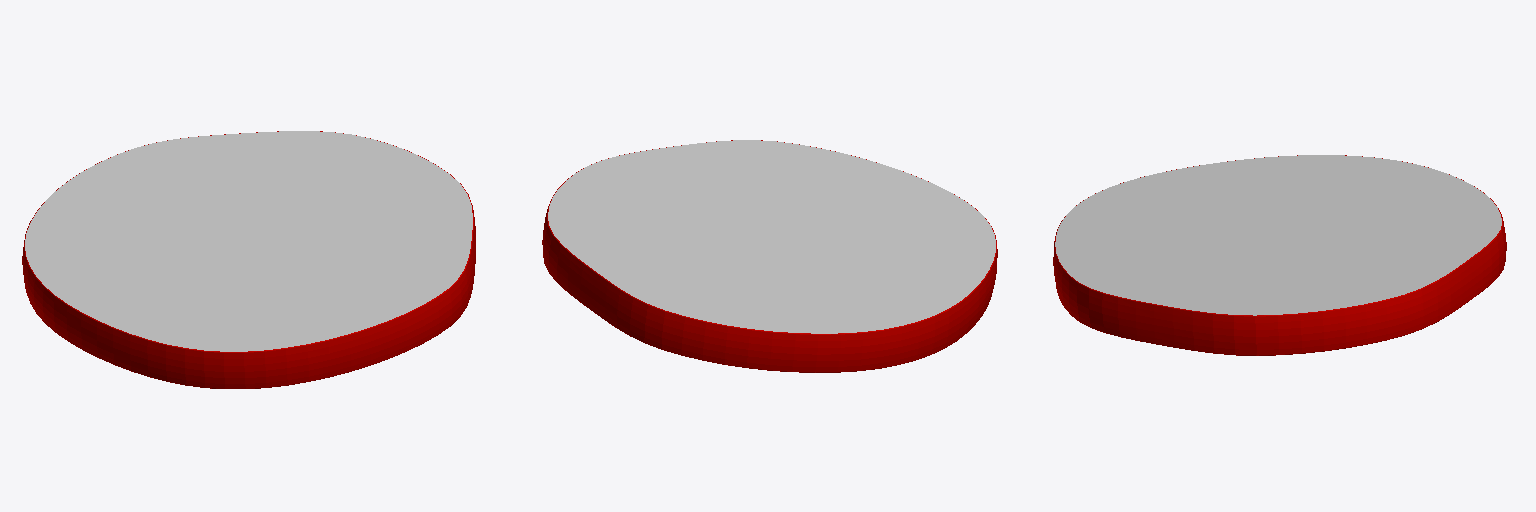
File: burger_tomato.obj
The picture shows the model from 3 angles: view 1: azimuth 30°, elevation 25°; view 2: azimuth 150°, elevation 25°; view 3: azimuth 270°, elevation 25°; orthographic projection.
Visible parts, largest first — view 1: Cylinder.007; view 2: Cylinder.007; view 3: Cylinder.007.
Part boxes in pixels (left/top/right/bottom): Cylinder.007: left=22, top=131, right=475, bottom=388; Cylinder.007: left=542, top=140, right=997, bottom=372; Cylinder.007: left=1053, top=155, right=1506, bottom=355.
Bounding box in the file's own units: 1.2 × 0.2206 × 1.2.